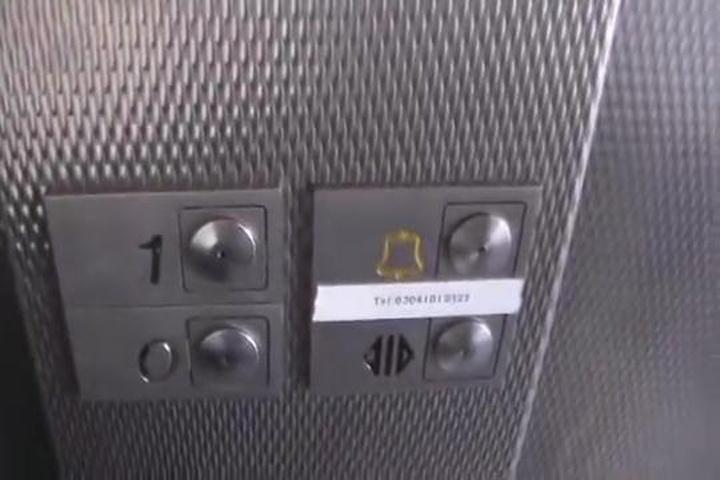0: (54, 295, 287, 401)
1: (37, 184, 288, 311)
alarm: (306, 178, 544, 286)
open: (304, 304, 521, 390)
